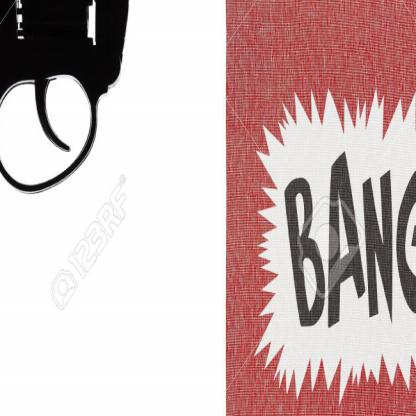gun: (0, 0, 210, 282)
